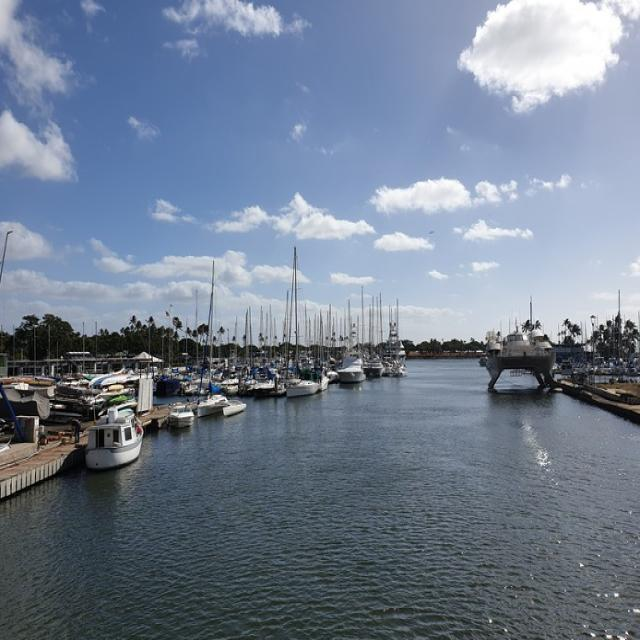houseboat: (90, 402, 151, 482)
